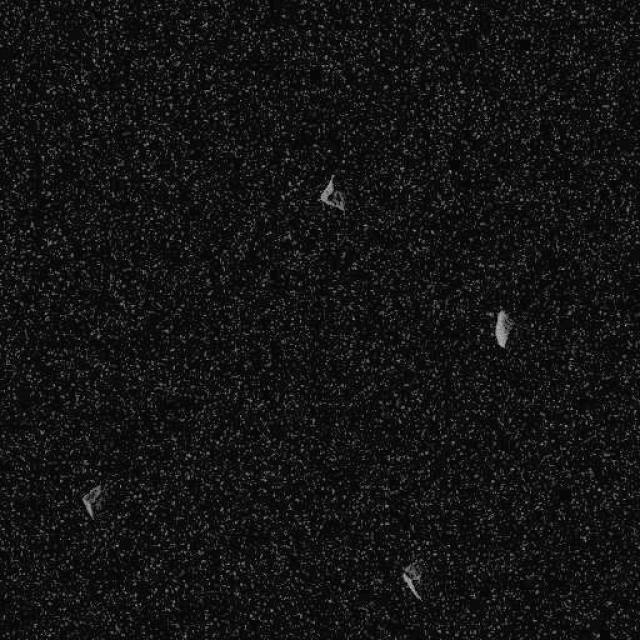D2: (316, 172, 345, 212), (400, 561, 422, 601), (492, 307, 512, 348), (80, 484, 102, 520)
